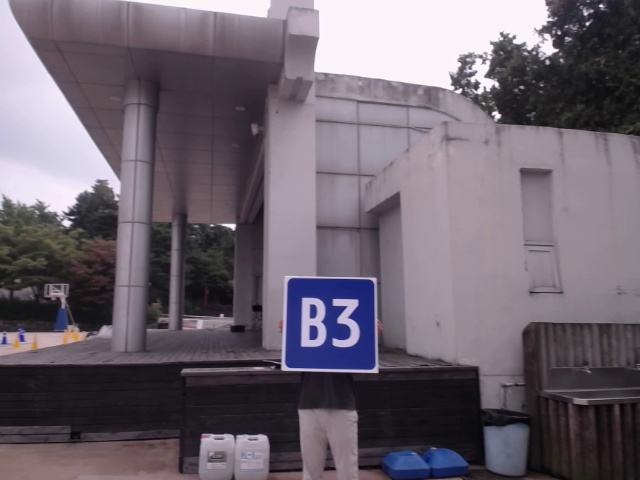delivery_b3: (285, 275, 379, 373)
